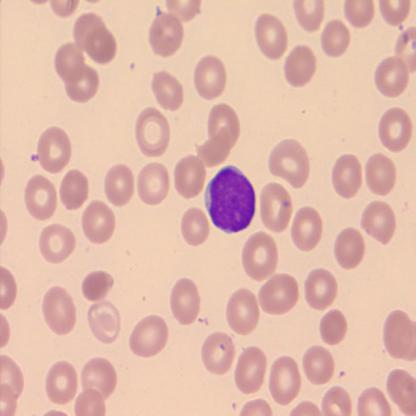Blast: (202, 164, 256, 236)
